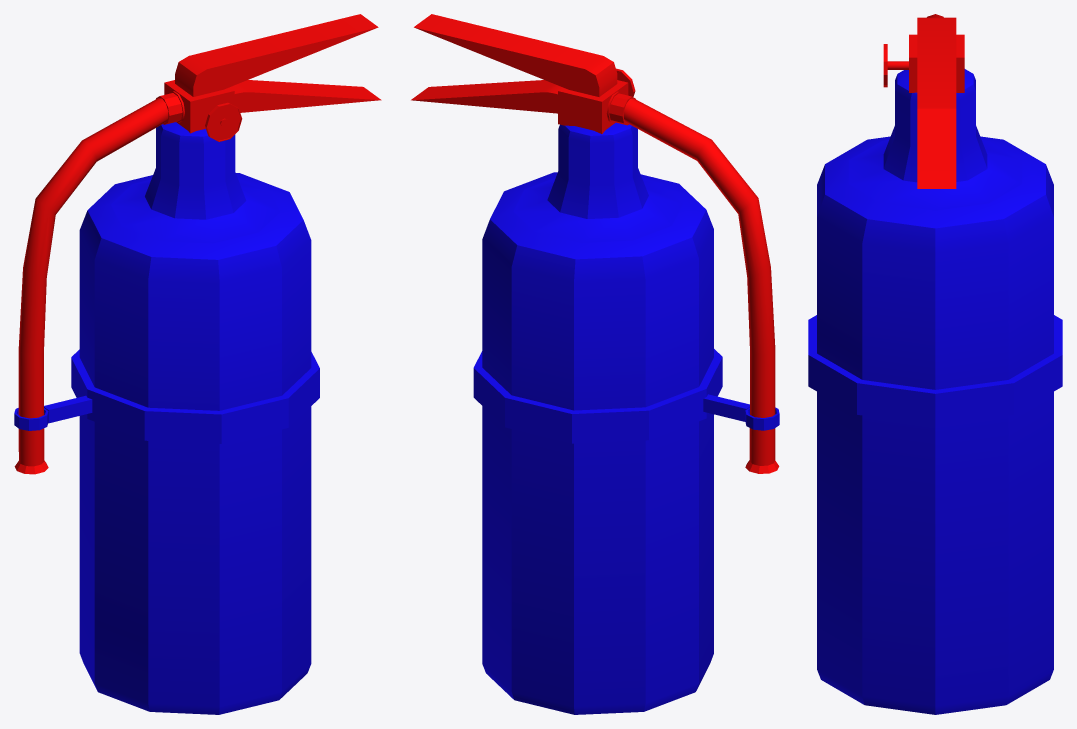
File: Fire_Ext.fbx
3 views of the same model, side by side, from view 1: azimuth 30°, elevation 25°; view 2: azimuth 150°, elevation 25°; view 3: azimuth 270°, elevation 25° (orthographic). The views are drawn at different scales.
Visible parts, largest first — view 1: Cylinder033, FireTop; view 2: Cylinder033, FireTop; view 3: Cylinder033, FireTop.
Part boxes in pixels (x1,y1,x2,y2): Cylinder033: (14, 122, 319, 714); FireTop: (14, 14, 381, 474); Cylinder033: (473, 122, 779, 714); FireTop: (411, 14, 779, 473); Cylinder033: (808, 69, 1062, 714); FireTop: (883, 14, 964, 188).
Size of the model in its own units: 0.728 by 0.4208 by 1.19.
